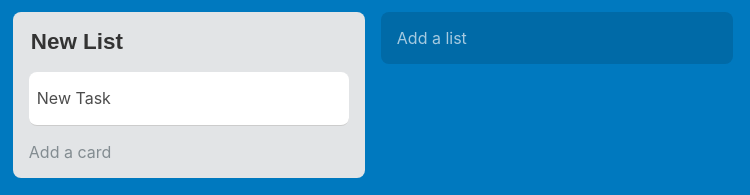
Scenario: user behavior › delete button display › displays delete button in list on hover
Hover over the field showing "New List" at (189, 42), box [29,28,349,56]
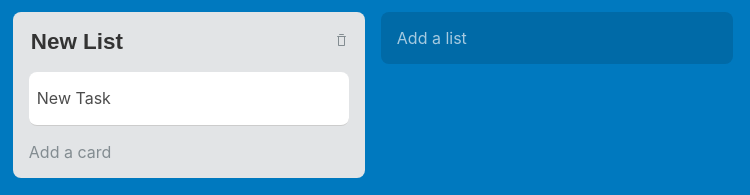
Check: the button titled "Delete List" is shown, box [318,12,365,72]
